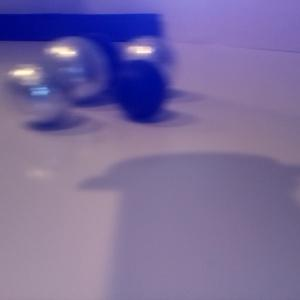alive_ball: (6, 60, 69, 123), (42, 37, 106, 98), (120, 35, 179, 89)
dead_ball: (62, 32, 121, 97), (116, 61, 168, 119)
